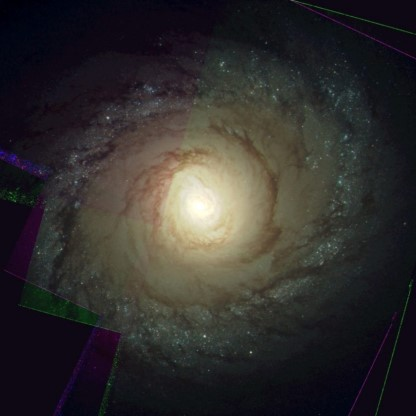Messier 94: (43, 21, 382, 375)
